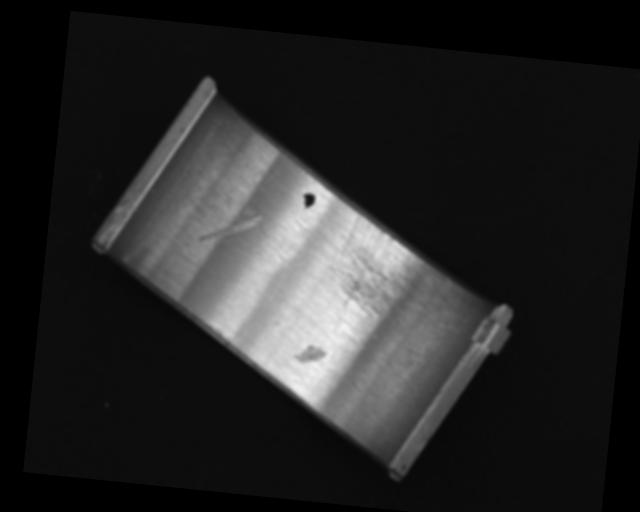blot: (301, 191, 316, 209)
bruise: (292, 342, 328, 364)
nick: (199, 210, 263, 247), (253, 166, 281, 244)
scratch: (319, 209, 449, 327)
